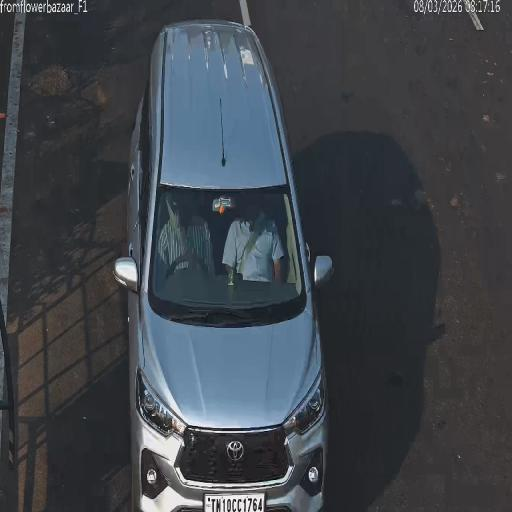person_with_seatbelt: (164, 192, 196, 274), (236, 214, 272, 275)
